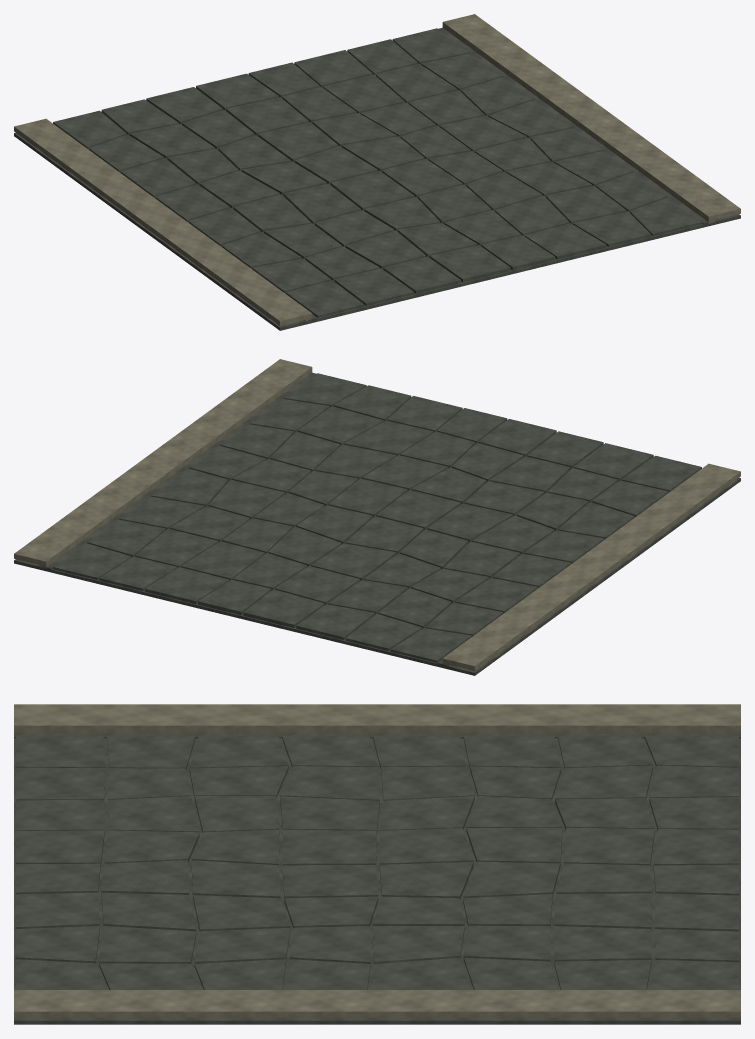
The model's file is basalt_road_lod1.glb.
The picture shows the model from 3 angles, top to bottom: view 1: azimuth 30°, elevation 25°; view 2: azimuth 150°, elevation 25°; view 3: azimuth 270°, elevation 25°; orthographic projection. The views are drawn at different scales.
Visible parts, largest first — view 1: basalt_road_lod1; view 2: basalt_road_lod1; view 3: basalt_road_lod1.
Part boxes in pixels (bbox=[...]): basalt_road_lod1: bbox=[14, 14, 740, 330]; basalt_road_lod1: bbox=[14, 359, 740, 675]; basalt_road_lod1: bbox=[14, 704, 740, 1024].
Size of the model in its own units: 8 by 0.16 by 8.
Materials: 2 (2 with a texture image).
